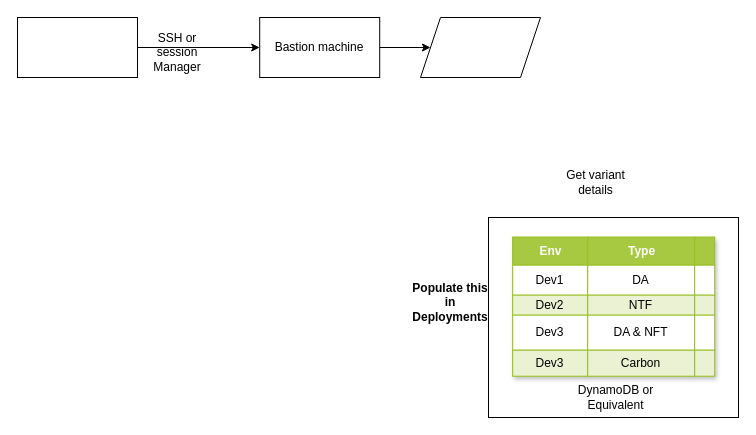
The diagram is 756 pixels wide and 435 high, and some of its shapes have lost their labels. The shapes that lost their labels are listed below. From the top down, each one's centre as x and y in pixels, then its label:
the point at 77,47: Local machine (will be replaced by Pipeline)
the point at 480,47: Clone InfTests Repo
